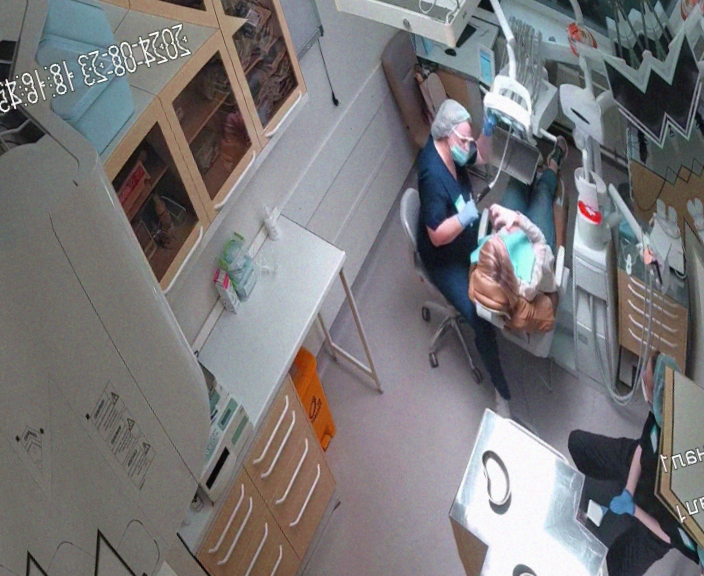Patient: (434, 148, 614, 355)
